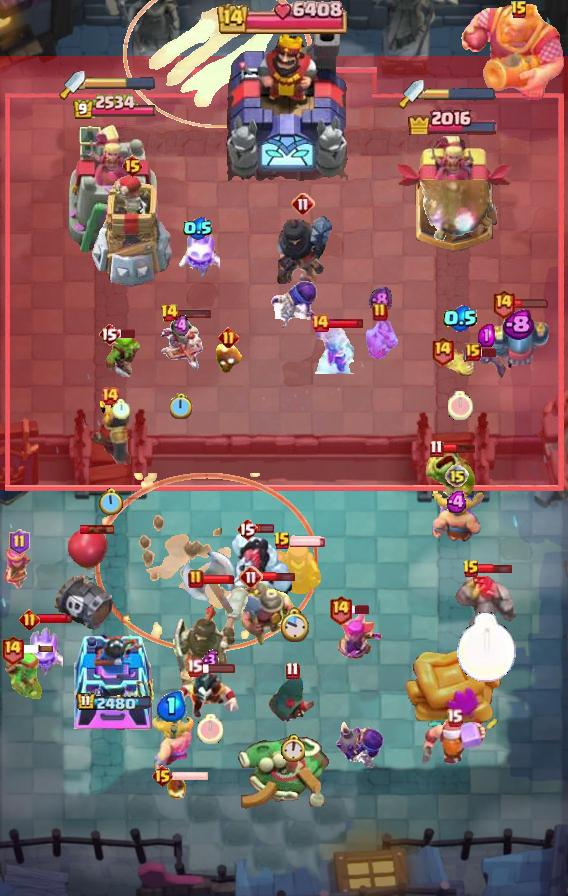archer: (2, 546, 36, 592)
archer-evolution: (330, 606, 385, 672)
axe: (180, 548, 238, 620)
bandit: (268, 676, 316, 722)
bar: (289, 535, 327, 547), (261, 570, 296, 583), (478, 562, 513, 575), (172, 770, 209, 782), (200, 662, 236, 674), (37, 613, 73, 625), (176, 307, 212, 319), (328, 318, 365, 329), (441, 443, 477, 454), (513, 298, 549, 309), (80, 524, 115, 535), (201, 574, 235, 585), (18, 644, 54, 654), (351, 604, 371, 615), (478, 347, 498, 358), (117, 328, 137, 339), (256, 523, 275, 534)
bar-level: (0, 634, 25, 665), (328, 594, 353, 625), (430, 335, 455, 366), (491, 288, 516, 319), (239, 565, 263, 589), (445, 464, 469, 488), (291, 192, 315, 216), (151, 764, 174, 788), (121, 154, 144, 178), (9, 529, 30, 555), (236, 517, 258, 541), (98, 322, 120, 346), (19, 609, 40, 630), (218, 327, 239, 348), (100, 386, 120, 406), (310, 313, 330, 333), (160, 303, 179, 323), (462, 559, 480, 579), (273, 531, 291, 551), (510, 0, 528, 20), (446, 708, 463, 727), (186, 658, 203, 677), (188, 569, 204, 589), (372, 302, 388, 322), (465, 343, 481, 361), (285, 661, 300, 680), (429, 439, 444, 458)
bat: (462, 350, 510, 378)
bomber-evolution: (333, 722, 385, 778), (268, 279, 320, 333)
clock: (456, 612, 517, 683), (279, 607, 309, 644), (197, 714, 223, 744), (98, 488, 123, 517), (448, 391, 473, 420), (280, 734, 305, 762), (170, 393, 193, 419), (112, 399, 130, 419)
dagger-duchess-tower: (391, 132, 515, 256), (67, 122, 161, 256)
dagger-duchess-tower-bar: (424, 87, 496, 101), (85, 77, 155, 91)
electro-wizard: (171, 665, 245, 723)
elite-barbarian: (429, 491, 485, 545), (150, 715, 194, 771)
elixir: (502, 309, 534, 341), (443, 305, 478, 332), (157, 691, 187, 722), (183, 217, 213, 240), (369, 286, 392, 314), (446, 491, 469, 513), (202, 649, 219, 672), (478, 324, 495, 347), (173, 314, 189, 338)
fire-spirit: (214, 343, 242, 375), (167, 777, 187, 799)
goblin: (97, 331, 145, 377)
goblin-brawler: (418, 446, 476, 500)
golemite: (452, 574, 520, 644)
ice-spirit-evolution: (19, 623, 63, 677), (176, 224, 220, 278)
king-tower: (219, 21, 349, 181)
king-tower-bar: (217, 0, 351, 34)
knight: (89, 401, 132, 467)
lava-pup: (442, 347, 478, 379)
little-prince: (314, 324, 356, 374)
lumberjack: (420, 719, 488, 773)
mega-minion: (485, 302, 551, 370)
miner: (237, 580, 299, 650)
minion: (360, 318, 400, 360)
mother-witch: (264, 542, 324, 598)
princess: (159, 315, 203, 375)
queen-tower: (73, 623, 155, 731)
spear-goblin: (4, 649, 42, 699)
tower-bar: (407, 106, 499, 135), (72, 94, 157, 121), (76, 692, 153, 713)
